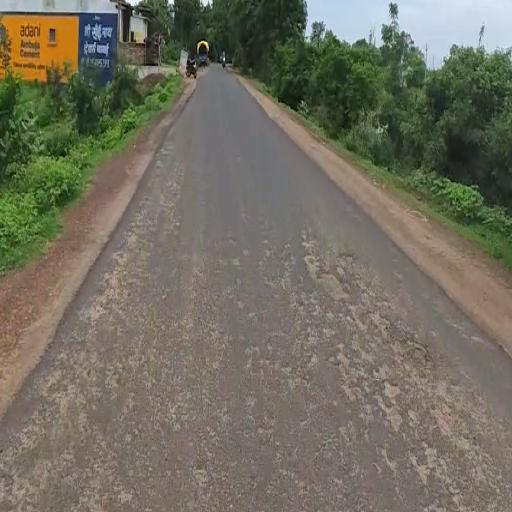ravelling: (103, 215, 455, 493)
